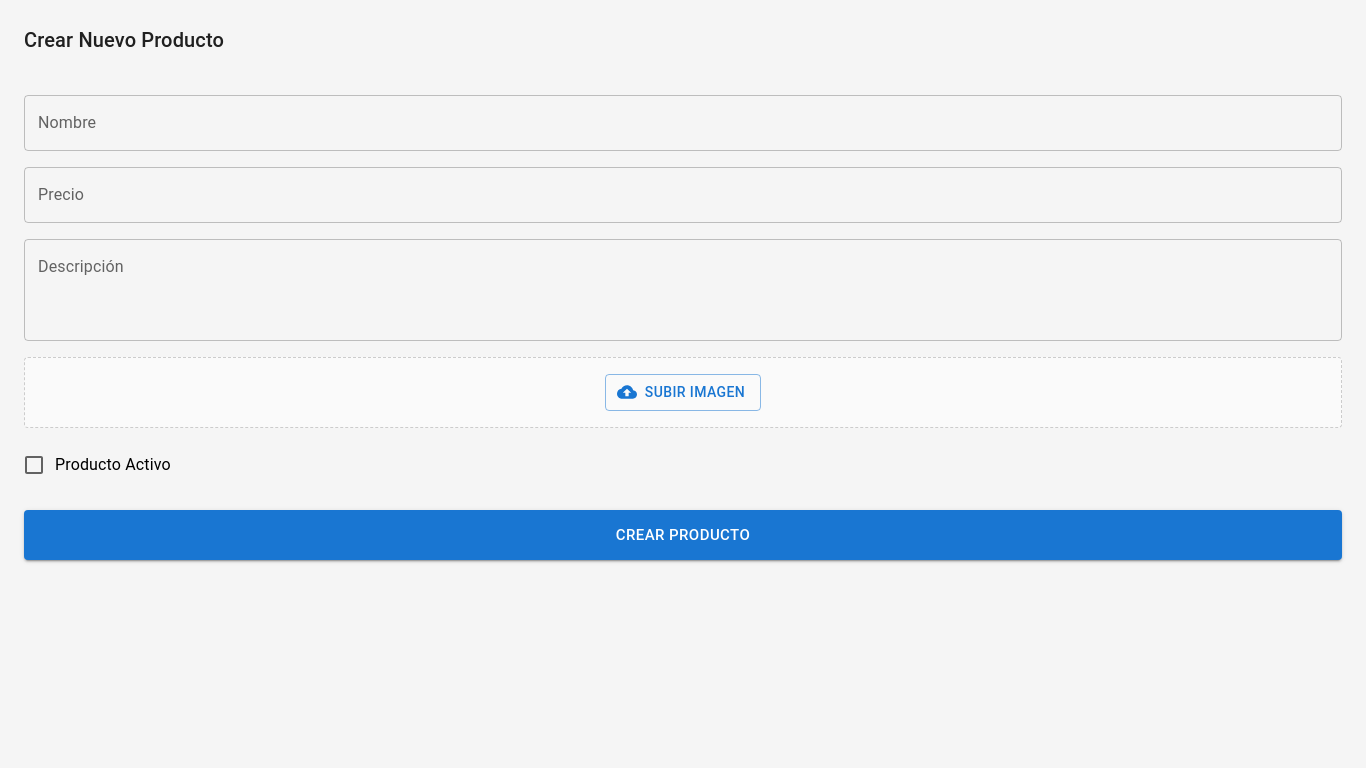
Test: ObjectForm Component › debería mostrar errores de validación si se envía vacío
Click the button "Crear Producto": (683, 535) left=24, top=510, right=1342, bottom=560
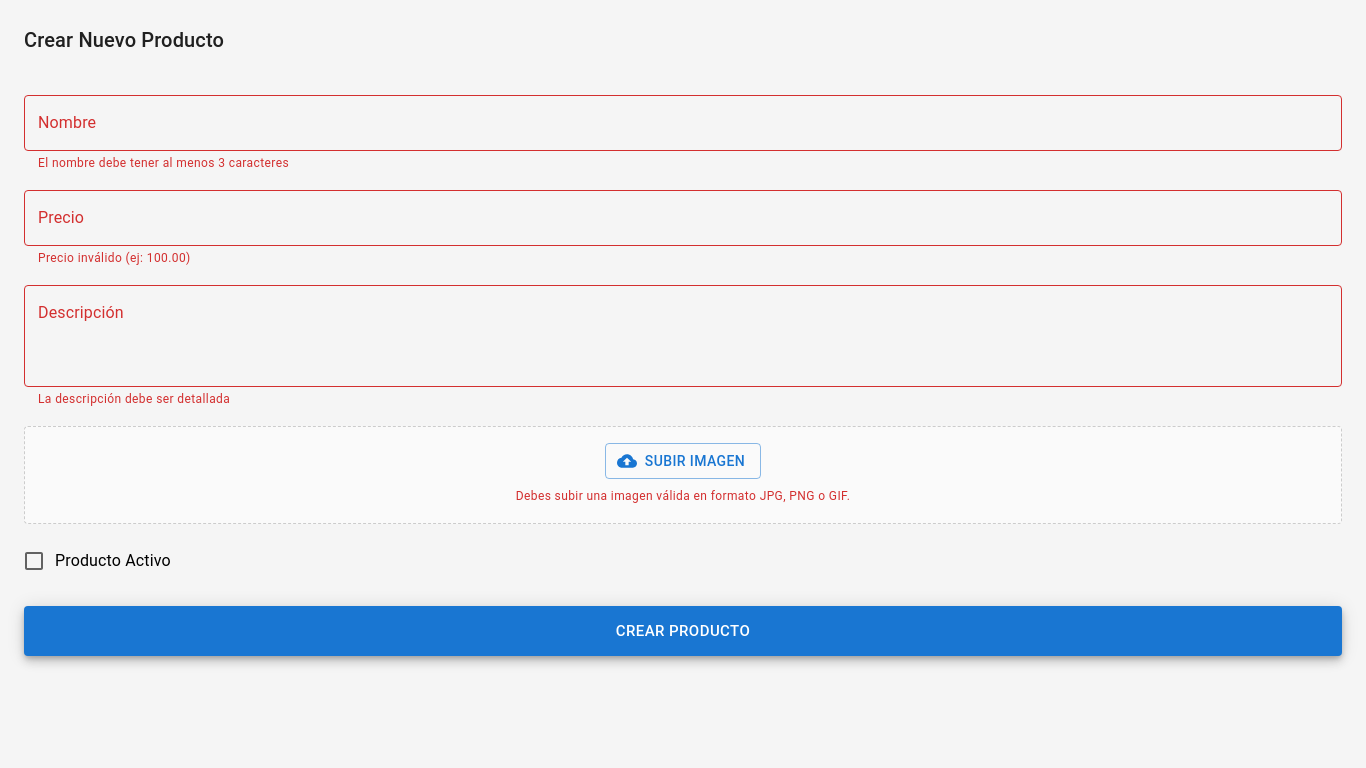
Expected: the text "El nombre debe tener al menos 3 caracteres" is shown, left=38, top=156, right=289, bottom=170
Expected: the text "Debes subir una imagen válida en formato JPG, PNG o GIF." is shown, left=516, top=489, right=850, bottom=503
